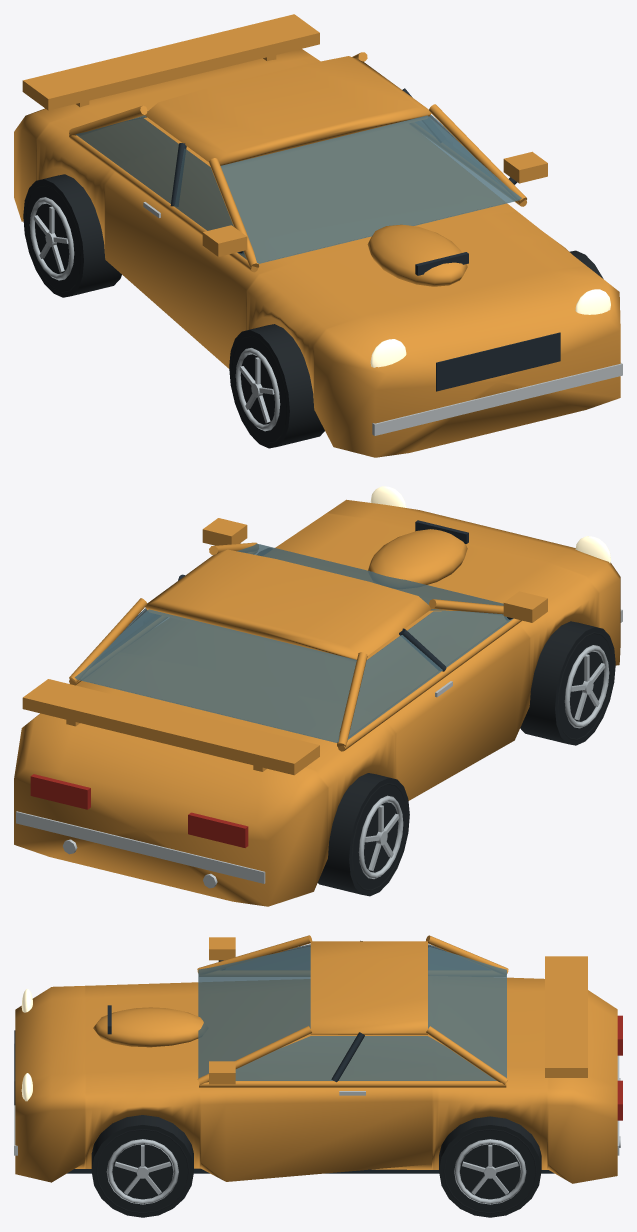
The model's file is camaro.glb.
The picture shows the model from 3 angles, top to bottom: view 1: azimuth 30°, elevation 25°; view 2: azimuth 150°, elevation 25°; view 3: azimuth 270°, elevation 25°; orthographic projection. The views are drawn at different scales.
Parts seen in each view (by area): view 1: exterior-paint, windows, tire-front-left, tire-rear-left, black-trim, chrome, rim-front-left, rim-rear-left, headlights; view 2: exterior-paint, windows, tire-front-left, tire-rear-left, chrome, taillights, rim-front-left, rim-rear-left, headlights, black-trim; view 3: exterior-paint, windows, tire-front-right, tire-rear-right, rim-rear-right, rim-front-right, black-trim, chrome, taillights, headlights.
Boxes of the visible parts, left/top/right/bottom form: exterior-paint: left=14, top=14, right=620, bottom=457; windows: left=75, top=111, right=521, bottom=263; tire-front-left: left=229, top=324, right=324, bottom=448; tire-rear-left: left=23, top=174, right=121, bottom=297; black-trim: left=170, top=88, right=560, bottom=391; chrome: left=143, top=202, right=622, bottom=435; rim-front-left: left=235, top=348, right=280, bottom=431; rim-rear-left: left=29, top=197, right=74, bottom=280; headlights: left=370, top=289, right=610, bottom=367; exterior-paint: left=14, top=499, right=620, bottom=906; windows: left=74, top=543, right=513, bottom=742; tire-front-left: left=520, top=621, right=615, bottom=745; tire-rear-left: left=317, top=773, right=409, bottom=896; chrome: left=16, top=609, right=622, bottom=888; taillights: left=30, top=774, right=248, bottom=847; rim-front-left: left=564, top=645, right=609, bottom=728; rim-rear-left: left=358, top=795, right=403, bottom=878; headlights: left=370, top=486, right=610, bottom=563; black-trim: left=178, top=520, right=512, bottom=671; exterior-paint: left=15, top=935, right=617, bottom=1183; windows: left=198, top=944, right=506, bottom=1080; tire-front-right: left=91, top=1115, right=193, bottom=1217; tire-rear-right: left=439, top=1116, right=541, bottom=1217; rim-rear-right: left=454, top=1139, right=526, bottom=1204; rim-front-right: left=106, top=1139, right=178, bottom=1204; black-trim: left=14, top=940, right=554, bottom=1173; chrome: left=14, top=1044, right=620, bottom=1155; taillights: left=617, top=1015, right=622, bottom=1120; headlights: left=21, top=989, right=32, bottom=1101.
Size of the model in its own units: 1.97 by 1.15 by 3.68.
